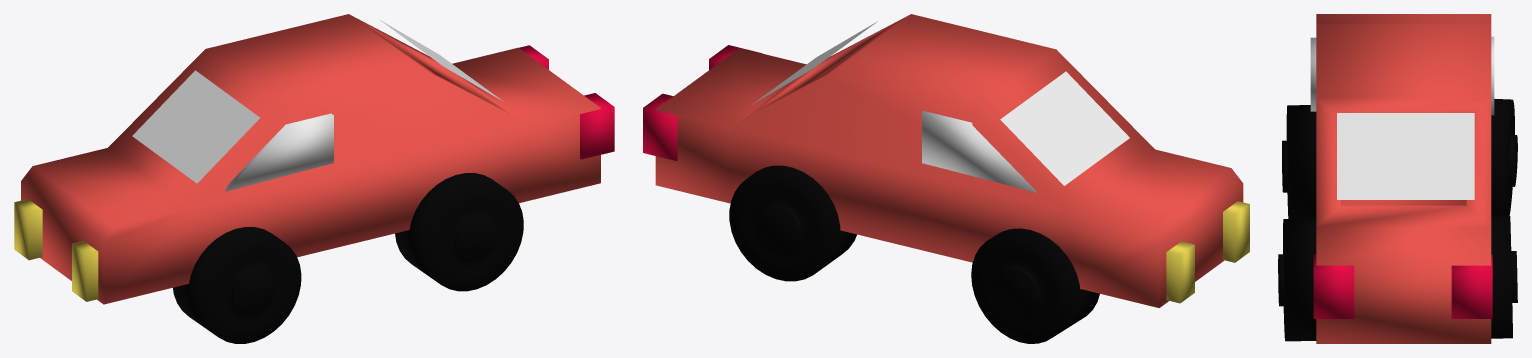
The model's file is car.gltf.
The picture shows the model from 3 angles, left to right: view 1: azimuth 30°, elevation 25°; view 2: azimuth 150°, elevation 25°; view 3: azimuth 270°, elevation 25°; orthographic projection. The views are drawn at different scales.
Parts seen in each view (by area): view 1: Cube, Cylinder, Cylinder.003, Plane, Cube.005, Cube.003, Cube.002, Cube.001, Plane.001; view 2: Cube, Cylinder.002, Cylinder.001, Plane, Cube.007, Cube.004, Cube.002, Cube.001, Plane.001; view 3: Cube, Plane.001, Cylinder, Cylinder.003, Cylinder.002, Cylinder.001, Cube.003, Cube.004, Cube.005, Cube.007.
Part boxes in pixels (x1,y1,x2,y2): Cube: [21, 14, 600, 304]; Cylinder: [395, 173, 523, 291]; Cylinder.003: [173, 227, 301, 343]; Plane: [132, 70, 259, 183]; Cube.005: [225, 113, 333, 191]; Cube.003: [580, 93, 614, 159]; Cube.002: [14, 199, 42, 260]; Cube.001: [72, 241, 98, 301]; Plane.001: [379, 19, 503, 101]; Cube: [655, 14, 1243, 307]; Cylinder.002: [729, 165, 856, 281]; Cylinder.001: [971, 228, 1099, 343]; Plane: [1000, 71, 1129, 185]; Cube.007: [922, 111, 1037, 192]; Cube.004: [643, 93, 677, 160]; Cube.002: [1166, 241, 1194, 303]; Cube.001: [1223, 201, 1249, 262]; Plane.001: [752, 21, 877, 104]; Cube: [1316, 14, 1491, 343]; Plane.001: [1337, 113, 1474, 199]; Cylinder: [1278, 218, 1316, 341]; Cylinder.003: [1282, 105, 1316, 218]; Cylinder.002: [1491, 216, 1517, 338]; Cylinder.001: [1491, 98, 1517, 216]; Cube.003: [1313, 254, 1354, 318]; Cube.004: [1451, 254, 1492, 318]; Cube.005: [1310, 37, 1316, 111]; Cube.007: [1491, 36, 1494, 115].
Bounding box in the file's own units: 8.08 × 3.12 × 3.03.
